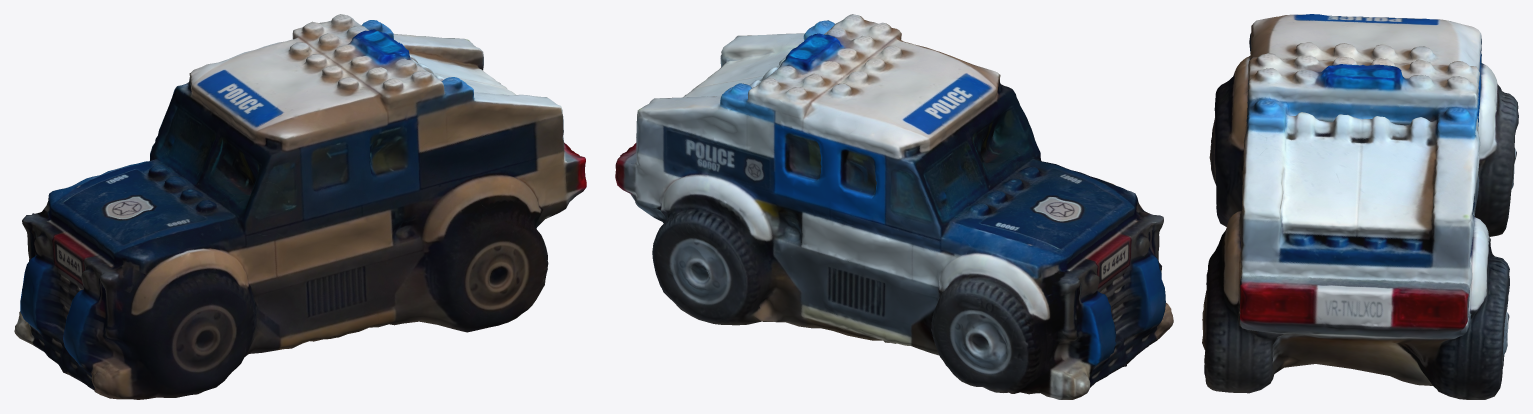
The model's file is auticko.glb.
3 renders of one model, left to right at view 1: azimuth 30°, elevation 25°; view 2: azimuth 150°, elevation 25°; view 3: azimuth 270°, elevation 25°, orthographic. The views are drawn at different scales.
Visible parts, largest first — view 1: ObjectCapture; view 2: ObjectCapture; view 3: ObjectCapture.
Boxes of the visible parts, x1,y1,x2,y2 form: ObjectCapture: (14,14,586,399); ObjectCapture: (615,14,1173,399); ObjectCapture: (1202,14,1518,399).
Bounding box in the file's own units: 0.1342 × 0.0677 × 0.0652.
Materials: 1 (1 with a texture image).
